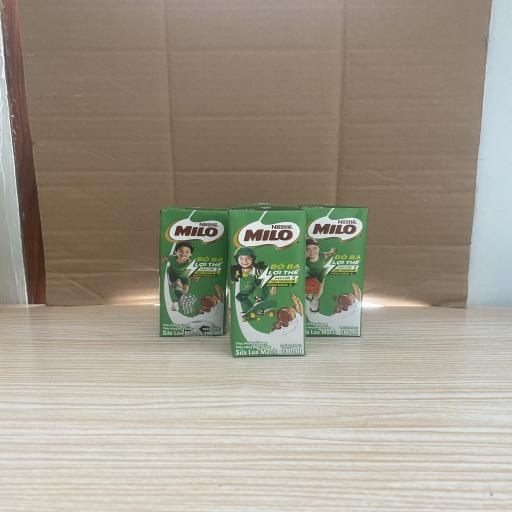milo: (227, 205, 309, 357), (159, 206, 229, 337), (303, 204, 371, 338)
